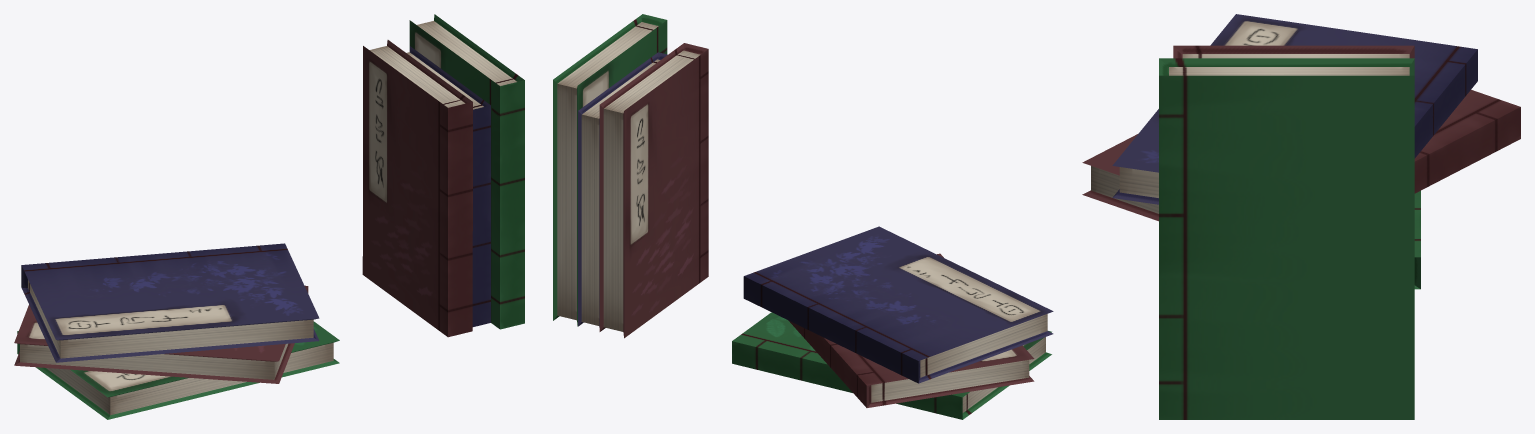
The model's file is Libros_Comp.fbx.
3 renders of one model, left to right at view 1: azimuth 30°, elevation 25°; view 2: azimuth 150°, elevation 25°; view 3: azimuth 270°, elevation 25°, orthographic. The views are drawn at different scales.
Visible parts, largest first — view 1: Libro_Horizontal, Libro_Vertical; view 2: Libro_Horizontal, Libro_Vertical; view 3: Libro_Horizontal, Libro_Vertical.
Boxes of the visible parts, bbox=[...] form: Libro_Horizontal: bbox=[362, 14, 524, 337]; Libro_Vertical: bbox=[14, 243, 339, 419]; Libro_Horizontal: bbox=[553, 14, 708, 338]; Libro_Vertical: bbox=[732, 226, 1053, 419]; Libro_Horizontal: bbox=[1159, 45, 1414, 419]; Libro_Vertical: bbox=[1082, 14, 1520, 289].
Size of the model in its own units: 779 by 400 by 462.
2 materials, 2 textured.
